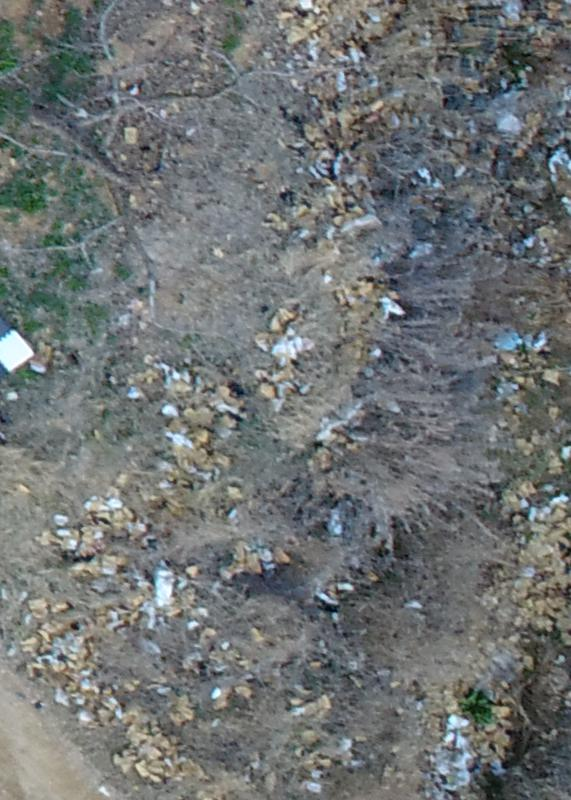apple: (10, 10, 285, 342)
